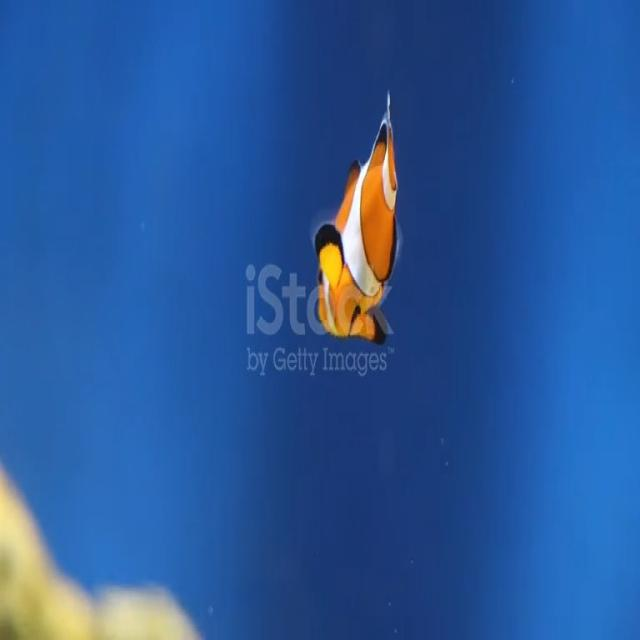fish: (310, 92, 401, 346)
